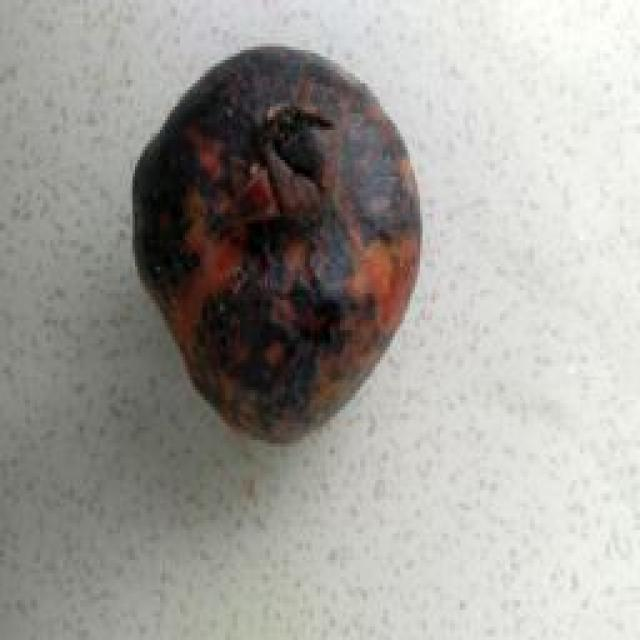Rotten: (132, 42, 425, 444)
